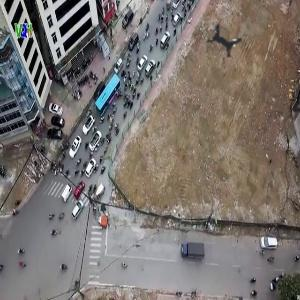drone: (184, 1, 263, 80)
